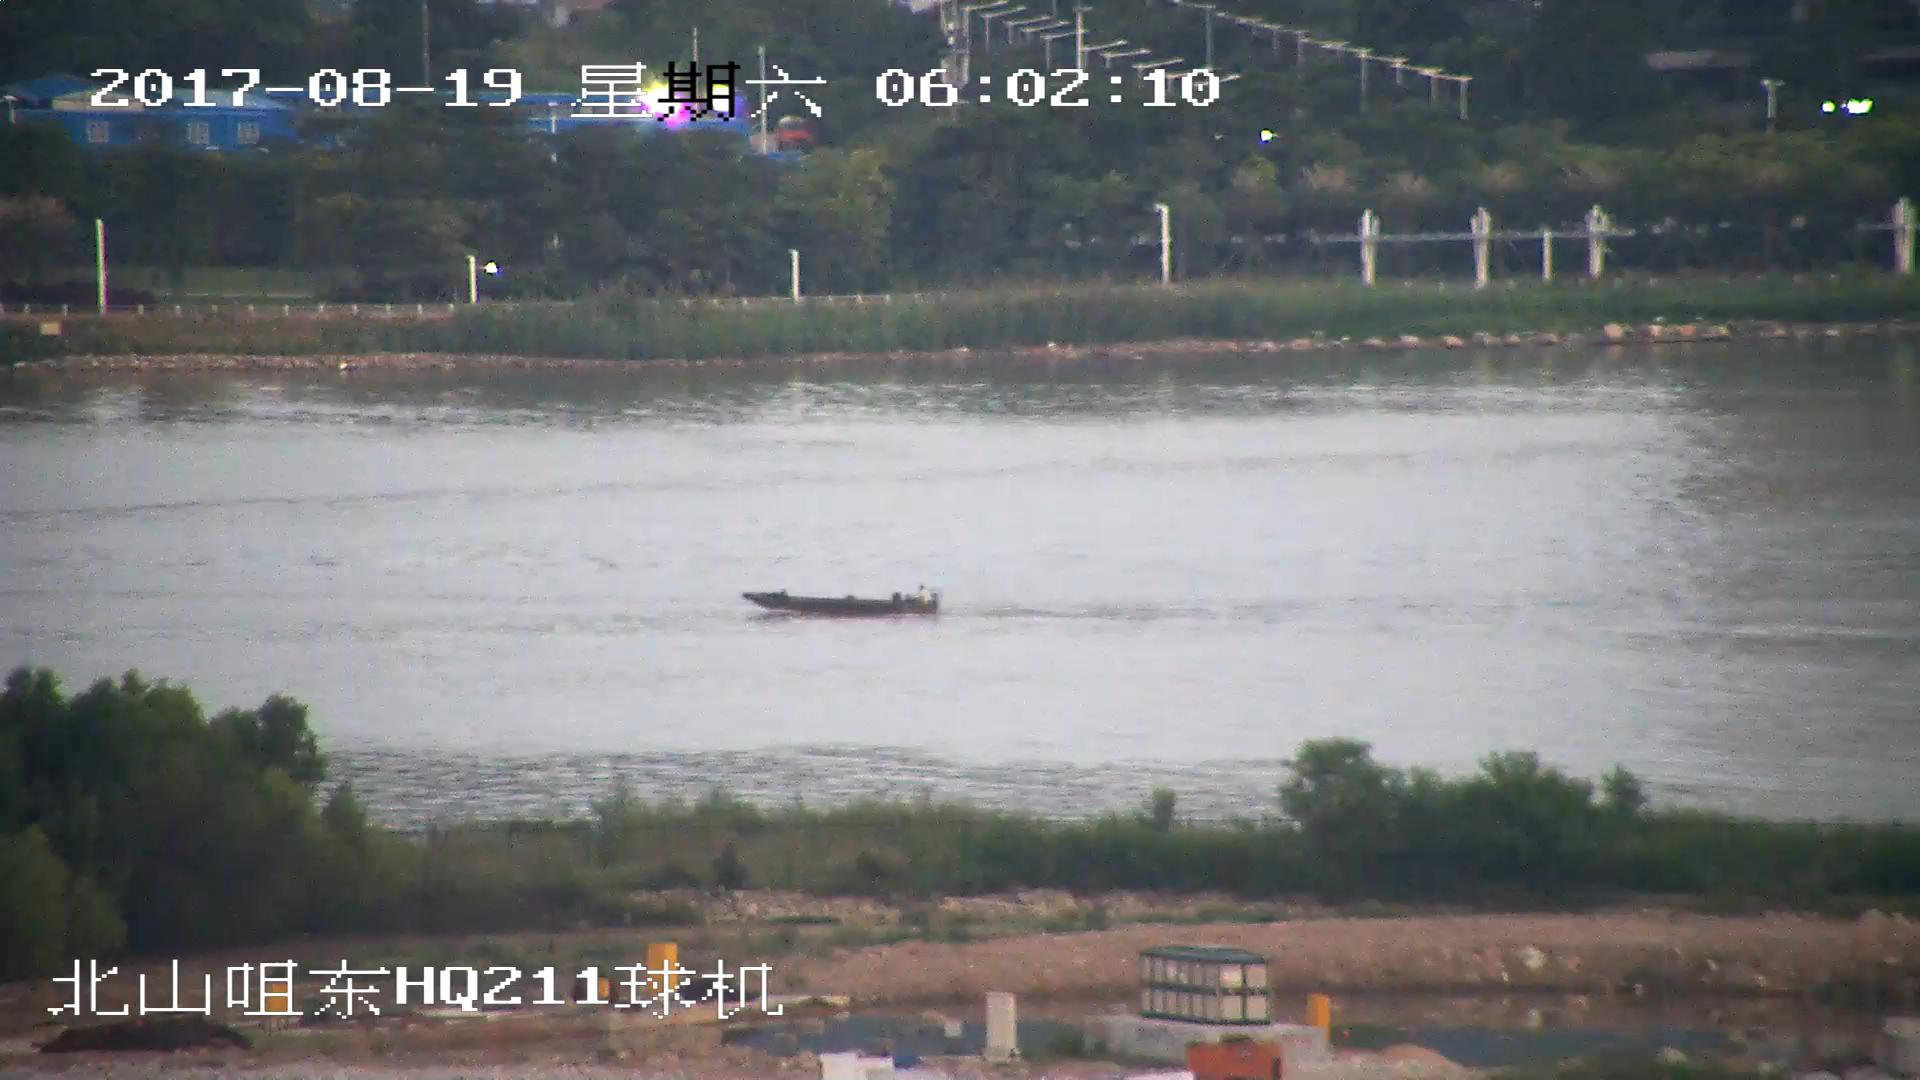fishing boat: (745, 581, 935, 620)
